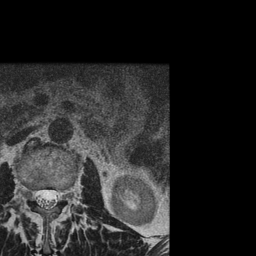CCS_normal: (43, 182, 52, 216)
LFS_normal: (59, 183, 68, 206)
LLS_normal: (52, 185, 59, 210)
RFS_normal: (28, 185, 36, 207)
RLS_normal: (35, 183, 42, 210)
